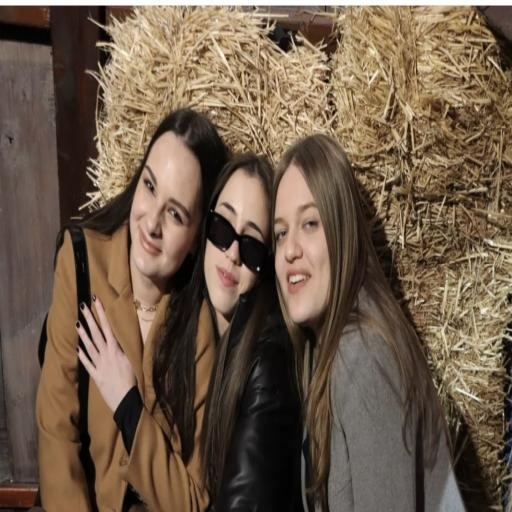marija: (131, 132, 203, 278)
masa: (204, 165, 270, 307)
